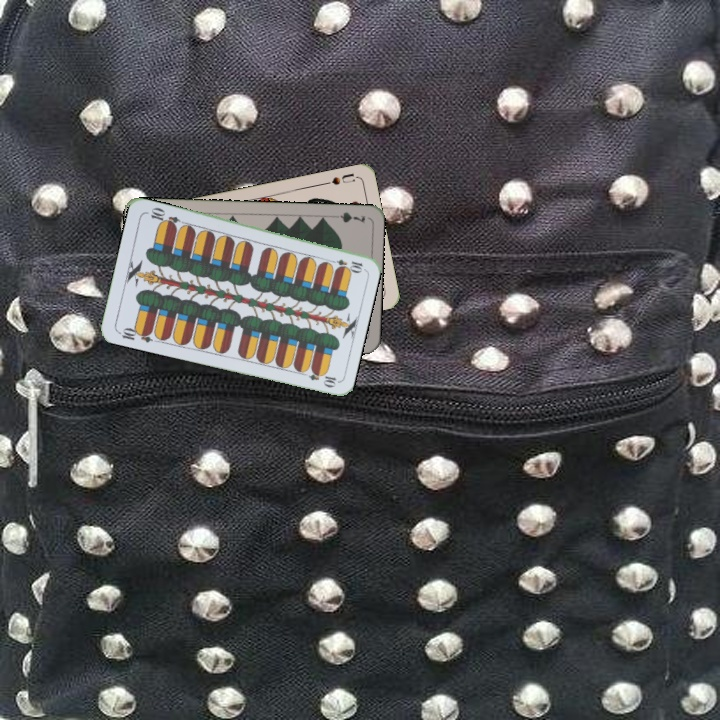E10: (114, 323, 155, 345), (325, 255, 365, 273)
G7: (328, 208, 367, 225)
SU: (319, 169, 359, 188)
